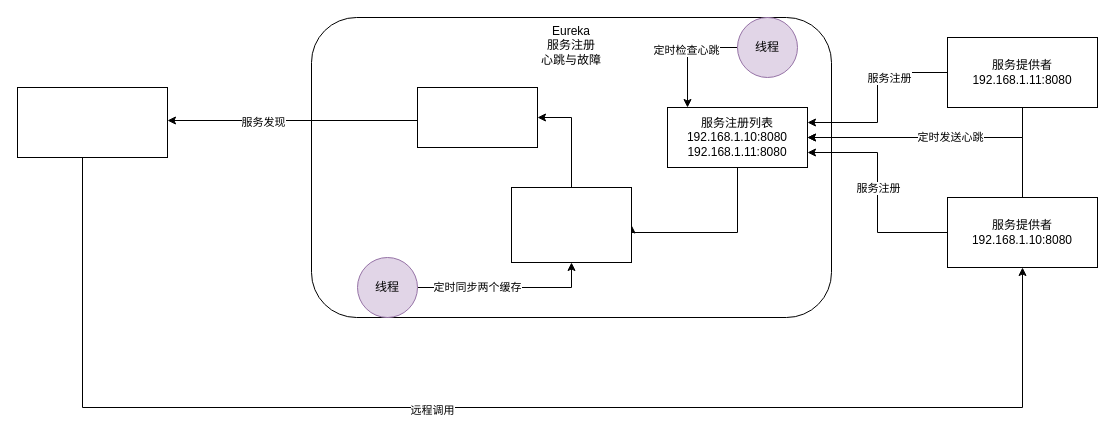
The diagram is 1115 pixels wide and 434 high, and some of its shapes have lost their labels. The centre of each missing label's shape, as x and y in pixels:
"消费者 服务注册列表 192.168.1.10:8080" belongs at (x=92, y=122).
"读写缓存 服务注册列表 192.168.1.10:8080 192.168.1.11:8080" belongs at (x=571, y=224).
"读缓存 服务注册列表 192.168.1.10:8080" belongs at (x=477, y=117).
